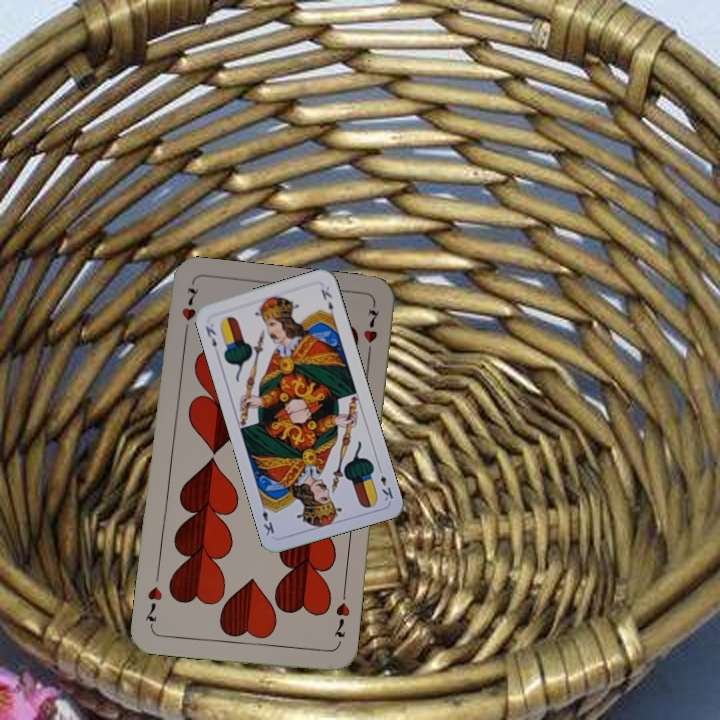EK: (374, 463, 396, 504), (201, 322, 219, 350)
H7: (177, 284, 201, 340), (330, 599, 353, 640)
